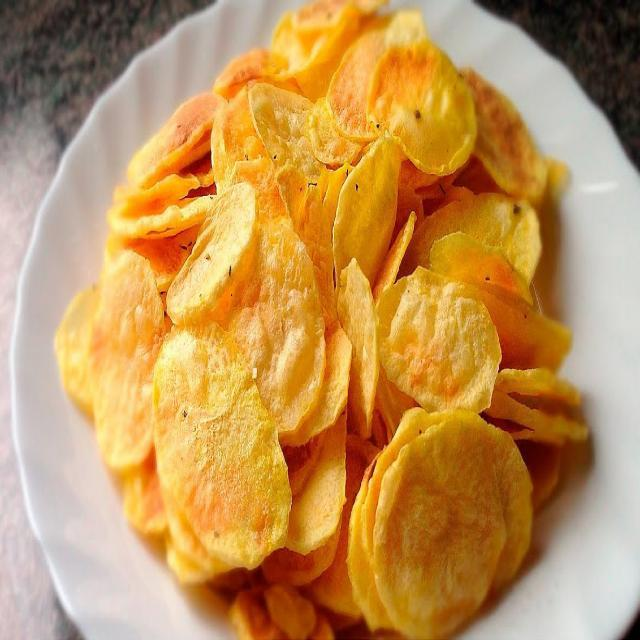Chips packaged: (81, 45, 563, 611)
